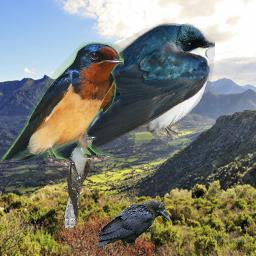Crow: (99, 199, 171, 249)
Cuckoo: (63, 134, 98, 228)
Swallow: (13, 22, 215, 168), (0, 42, 124, 166)
